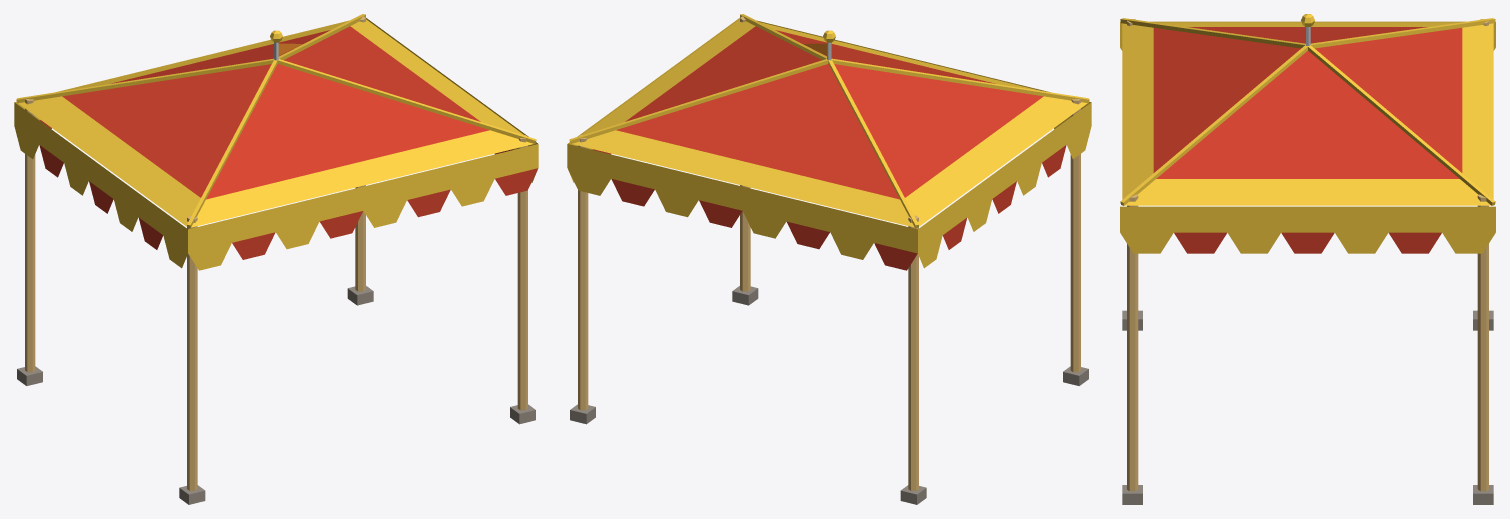
File: canopy_red.glb
3 renders of one model, left to right at view 1: azimuth 30°, elevation 25°; view 2: azimuth 150°, elevation 25°; view 3: azimuth 270°, elevation 25°, orthographic. The views are drawn at different scales.
Visible parts, largest first — view 1: canopy_red; view 2: canopy_red; view 3: canopy_red.
Part boxes in pixels (left/top/right/bottom): canopy_red: left=14, top=14, right=538, bottom=504; canopy_red: left=567, top=14, right=1091, bottom=504; canopy_red: left=1120, top=14, right=1495, bottom=504.
Size of the model in its own units: 4.24 by 4.27 by 3.64.
Materials: 1 (1 with a texture image).
